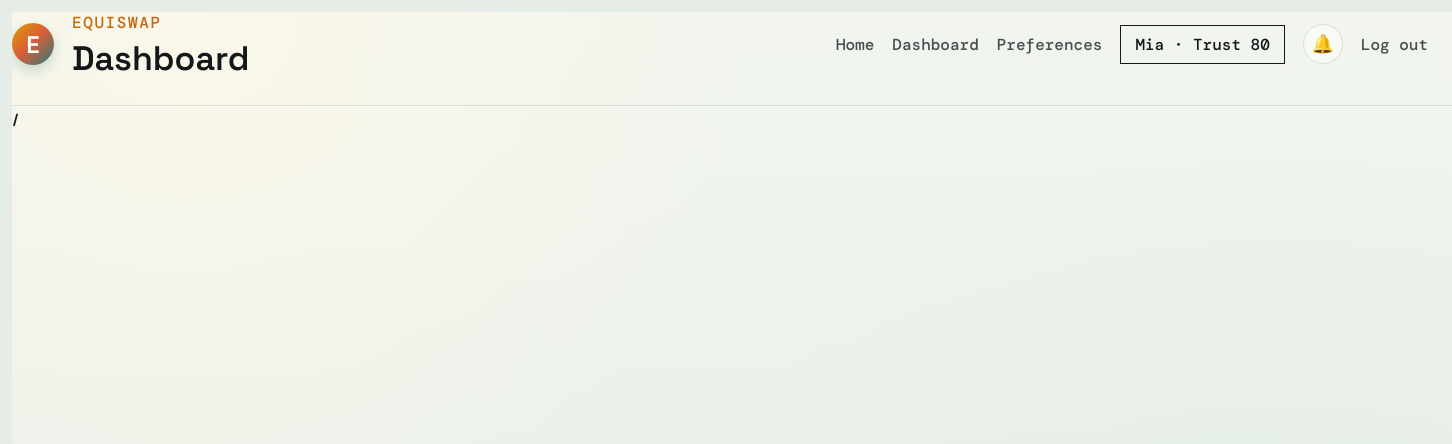
Scenario: TopNav › shows an empty state when there are no notifications
This screenshot has width=1452, height=444.
Click the button named "Notifications" at [1323, 44], box [1303,24,1343,64]
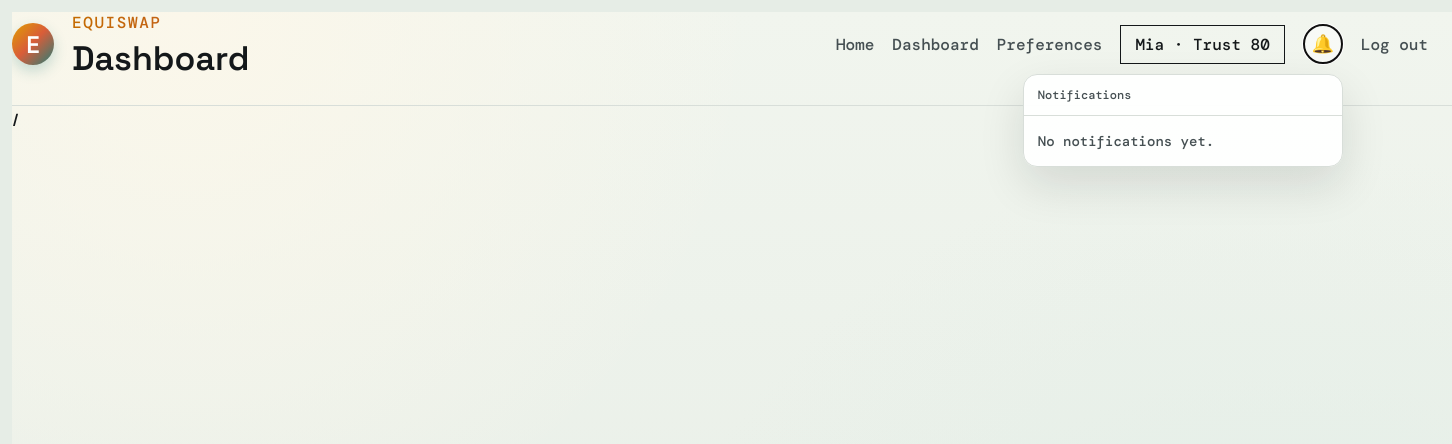
Now the text "No notifications yet." is shown, box [1038,132,1214,150]
